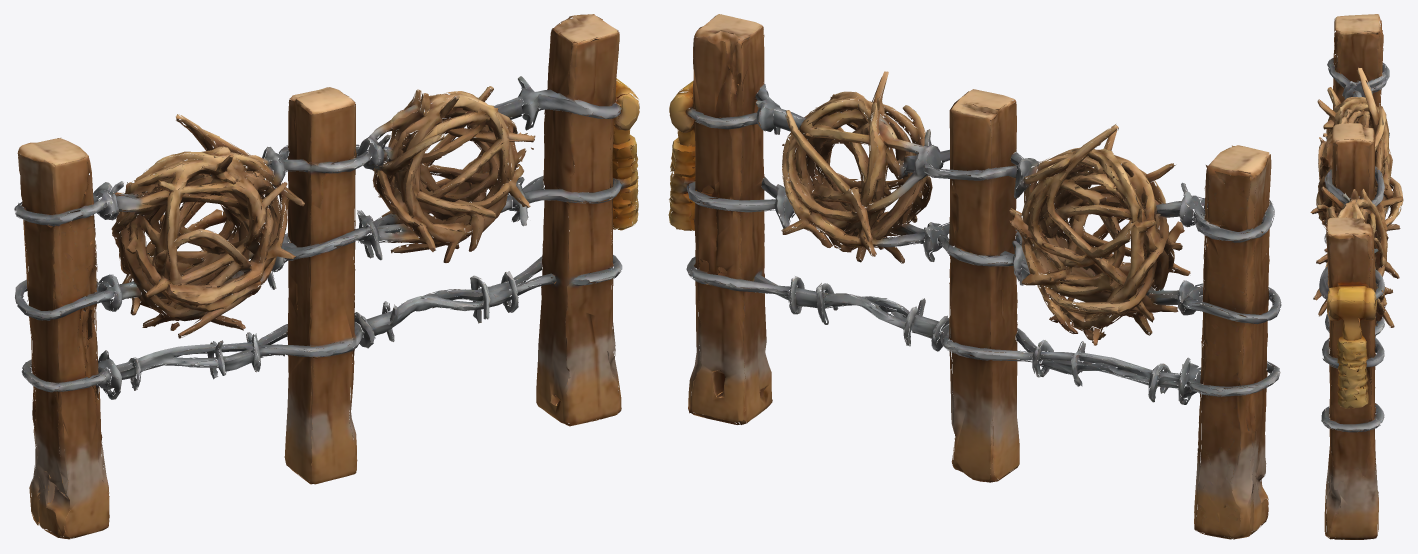
File: tripwire_fence.glb
The picture shows the model from 3 angles, left to right: view 1: azimuth 30°, elevation 25°; view 2: azimuth 150°, elevation 25°; view 3: azimuth 270°, elevation 25°; orthographic projection. The views are drawn at different scales.
Visible parts, largest first — view 1: base; view 2: base; view 3: base.
Boxes of the visible parts, x1,y1,x2,y2 form: base: [14, 14, 639, 539]; base: [668, 14, 1281, 539]; base: [1310, 14, 1403, 539].
Bounding box in the file's own units: 1.65 × 1 × 0.2738.
Materials: 1 (1 with a texture image).
